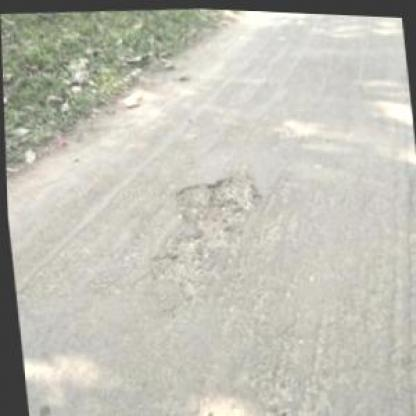pothole: (164, 166, 266, 236), (142, 229, 206, 295)
